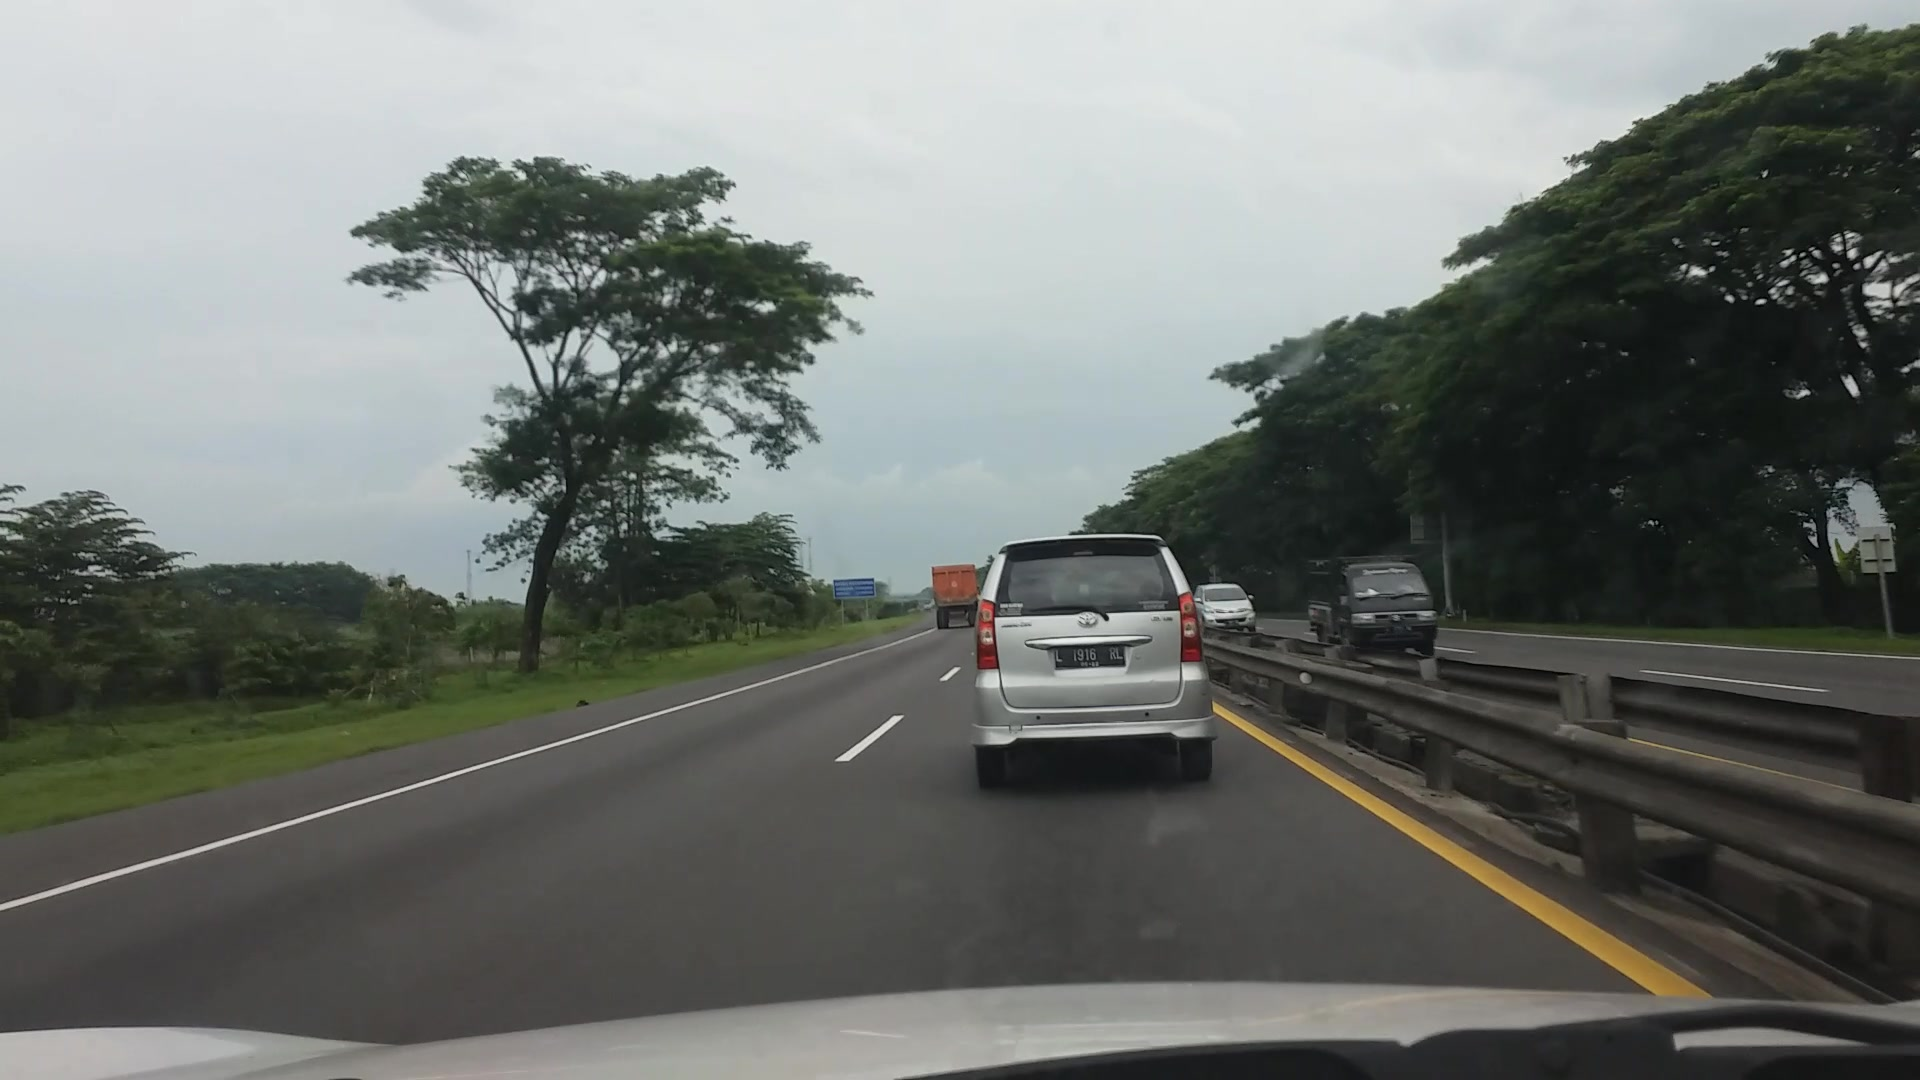plate_positive: (1055, 645, 1126, 669)
